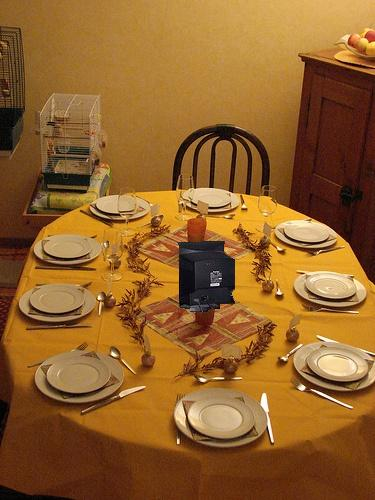tampered: (178, 242, 235, 312)
